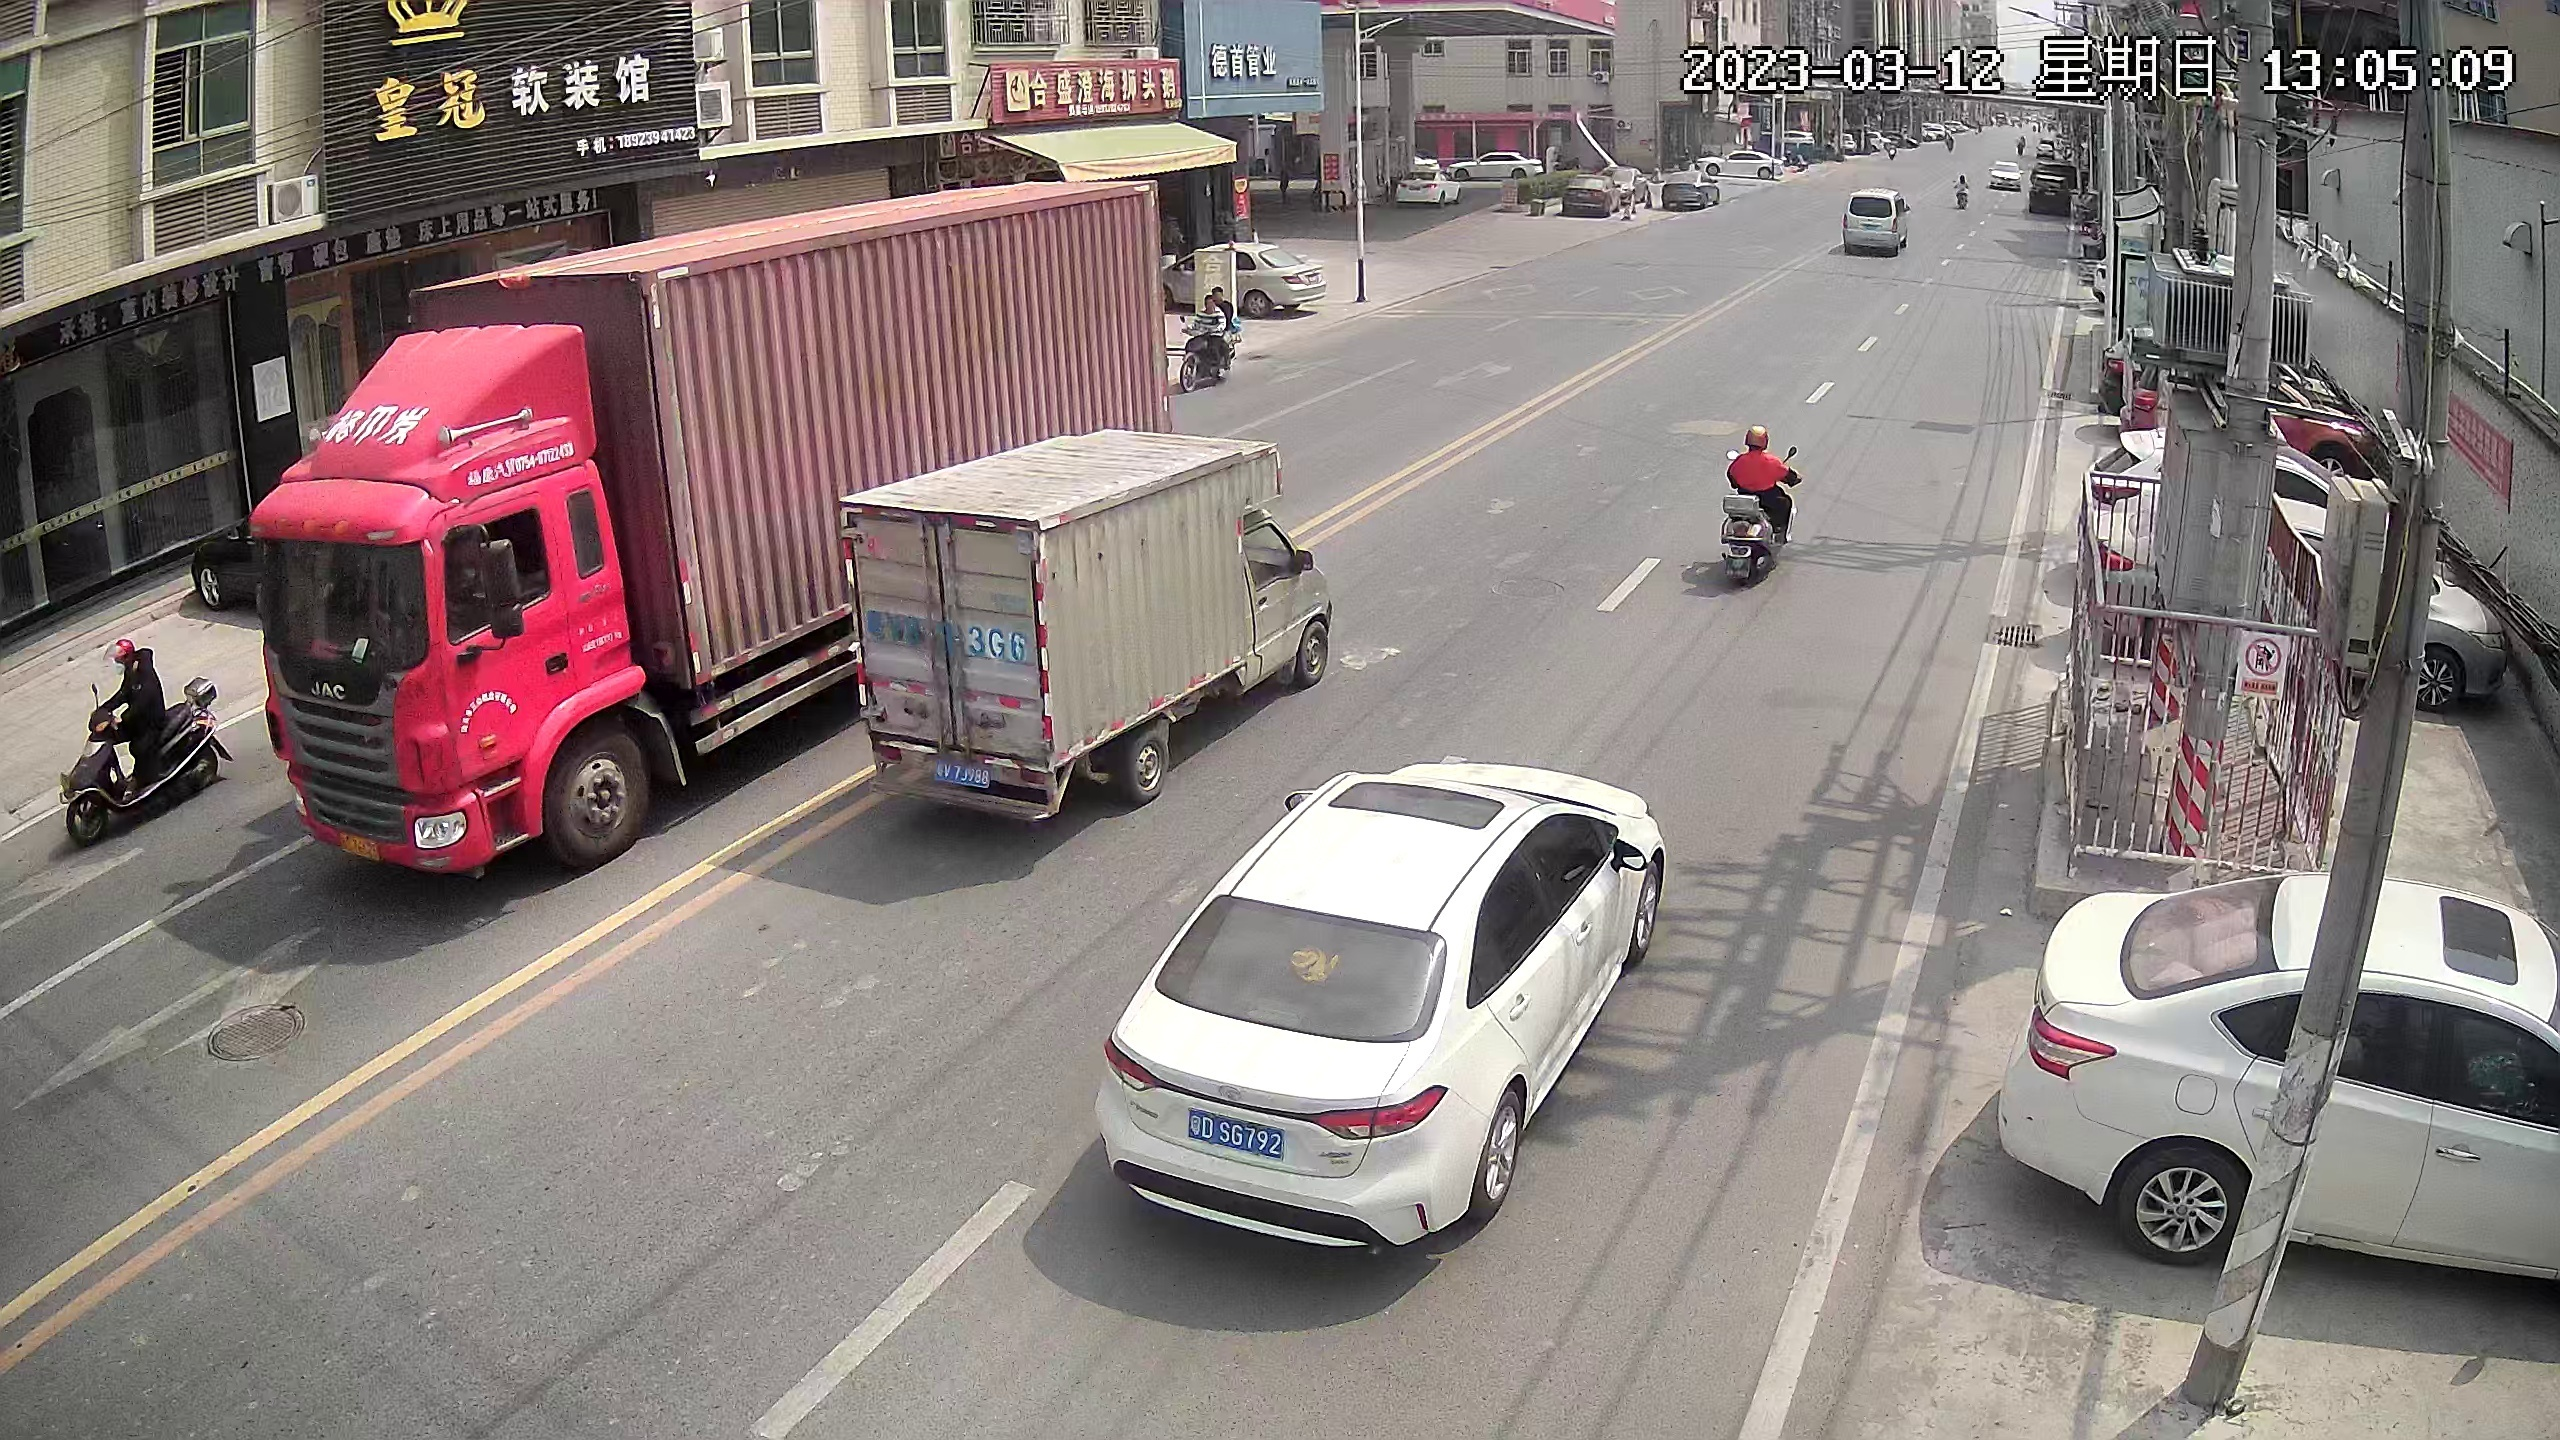motorcycle: (2090, 497, 2488, 690), (62, 633, 222, 844), (2122, 364, 2349, 453), (2085, 430, 2334, 504), (1713, 414, 1807, 585), (1169, 293, 1238, 387), (1949, 163, 1974, 214)
person: (103, 634, 169, 787)
sedan: (1109, 730, 1674, 1282), (2012, 869, 2560, 1312), (1189, 242, 1320, 318), (1667, 169, 1727, 218), (1400, 165, 1458, 212), (1713, 149, 1779, 188), (1569, 174, 1622, 220), (1460, 153, 1542, 183), (2029, 173, 2069, 215), (1995, 157, 2023, 195)
truck: (263, 182, 1142, 860), (848, 434, 1313, 797)
van: (1840, 183, 1913, 264)
